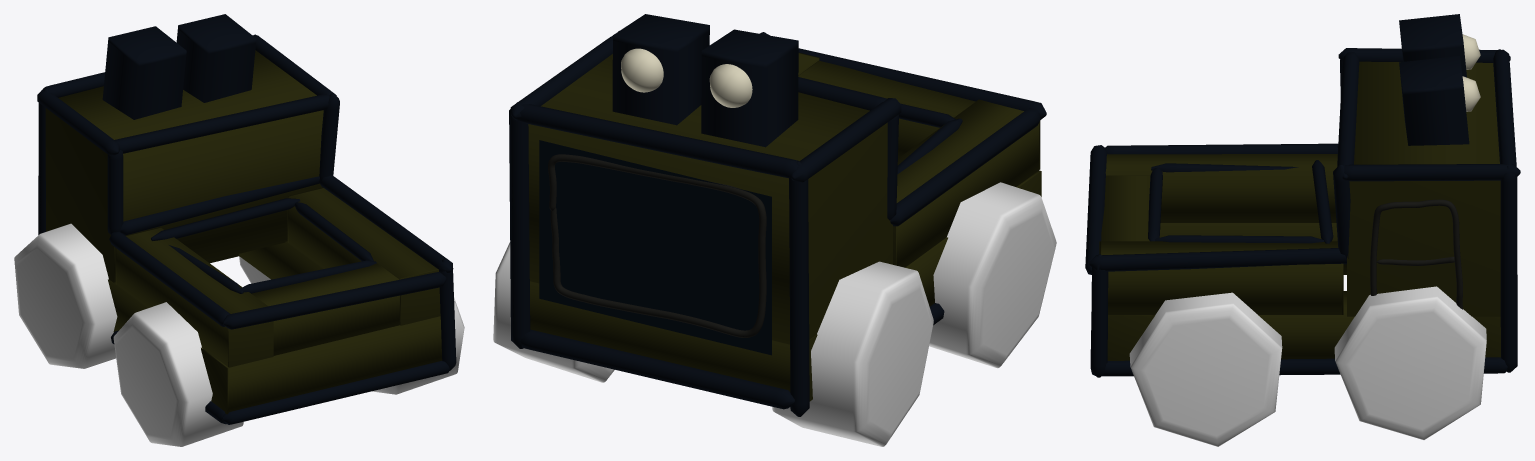
Rendered from Baukipper_reduced.fbx.
3 views of the same model, side by side, from view 1: azimuth 30°, elevation 25°; view 2: azimuth 150°, elevation 25°; view 3: azimuth 270°, elevation 25° (orthographic). The views are drawn at different scales.
Parts seen in each view (by area): view 1: body, polySurface1, polySurface2, polySurface3; view 2: body, polySurface1, polySurface2, polySurface4; view 3: body, polySurface3, polySurface4.
Boxes of the visible parts, bbox=[...] form: body: bbox=[37, 14, 456, 424]; polySurface1: bbox=[14, 223, 117, 368]; polySurface2: bbox=[113, 302, 243, 446]; polySurface3: bbox=[371, 297, 464, 394]; body: bbox=[509, 14, 1046, 416]; polySurface1: bbox=[772, 261, 933, 446]; polySurface2: bbox=[929, 182, 1056, 368]; polySurface4: bbox=[493, 242, 614, 382]; body: bbox=[1085, 14, 1520, 377]; polySurface3: bbox=[1129, 292, 1282, 446]; polySurface4: bbox=[1334, 286, 1486, 439].
Size of the model in its own units: 2.74 by 2.69 by 3.22.
